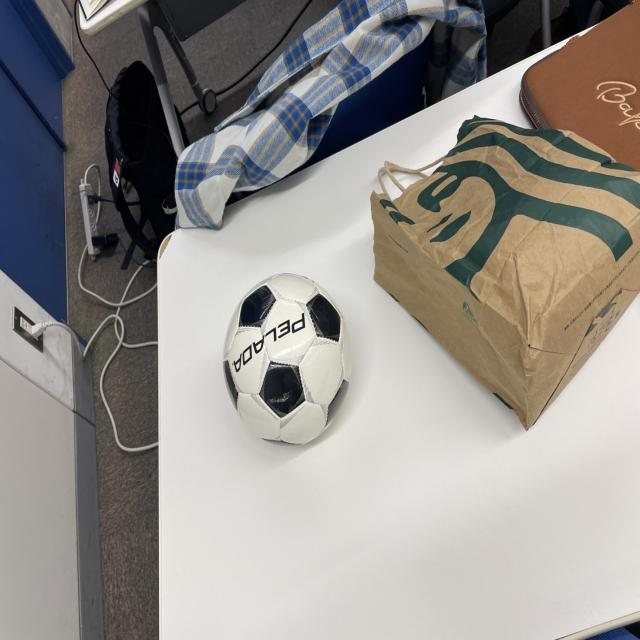ball: (226, 272, 350, 448)
